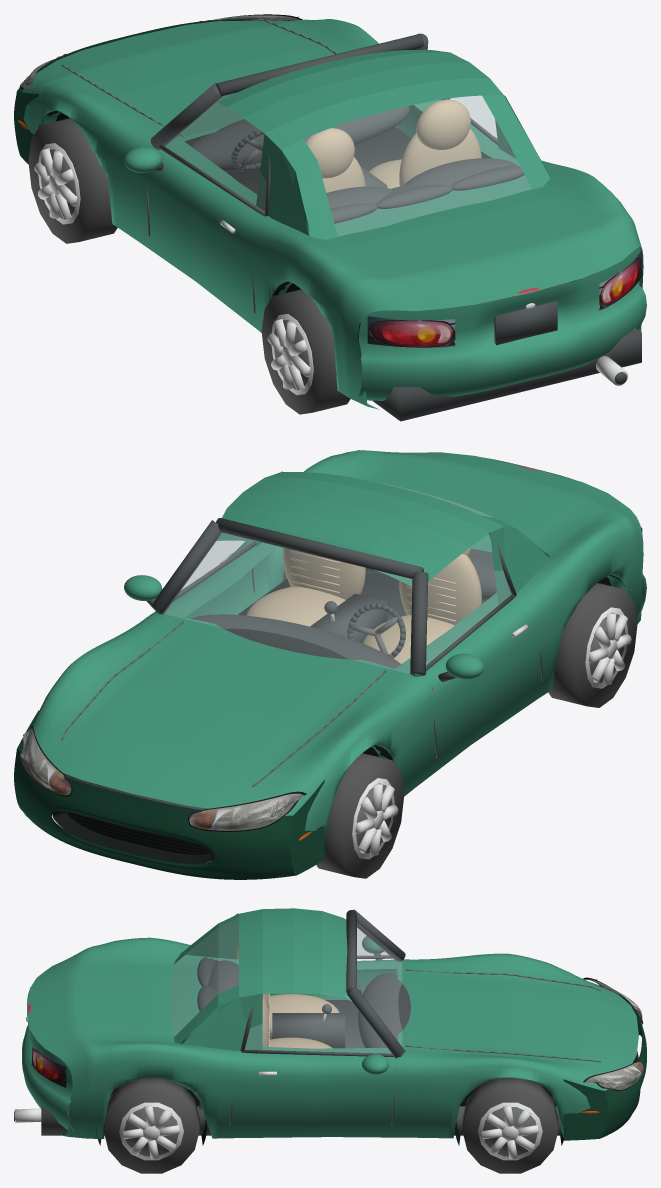
Rendered from miata.glb.
3 renders of one model, top to bottom at view 1: azimuth 30°, elevation 25°; view 2: azimuth 150°, elevation 25°; view 3: azimuth 270°, elevation 25°, orthographic. The views are drawn at different scales.
Parts seen in each view (by area): view 1: body_British racing green, body_glass, body_trim, body_leather, front_l_rubber, rear_l_rubber, rear_light_-1, front_l_alloy, rear_l_alloy, rear_light_1, body_dark, Bumper return -1 (+2 smaller); view 2: body_British racing green, body_glass, body_trim, body_leather, Upper bumper, rear_l_rubber, front_l_rubber, Lower bumper, Headlamp -1, front_l_alloy, rear_l_alloy, Radiator core (+4 smaller); view 3: body_British racing green, body_glass, body_trim, front_r_rubber, rear_r_rubber, rear_r_alloy, front_r_alloy, body_leather, Bumper return 1, Upper bumper, body_dark, Headlamp 1 (+5 smaller).
Part boxes in pixels (bbox=[...]): body_British racing green: bbox=[22, 19, 646, 409]; body_glass: bbox=[163, 48, 531, 236]; body_trim: bbox=[150, 33, 641, 421]; body_leather: bbox=[305, 99, 481, 192]; front_l_rubber: bbox=[28, 118, 117, 243]; rear_l_rubber: bbox=[261, 289, 350, 414]; rear_light_-1: bbox=[367, 316, 455, 347]; front_l_alloy: bbox=[34, 143, 80, 224]; rear_l_alloy: bbox=[267, 314, 313, 395]; rear_light_1: bbox=[599, 249, 642, 311]; body_dark: bbox=[61, 18, 336, 313]; Bumper return -1: bbox=[14, 91, 38, 164]; body_British racing green: bbox=[22, 450, 646, 877]; body_glass: bbox=[163, 480, 511, 673]; body_trim: bbox=[64, 518, 516, 810]; body_leather: bbox=[246, 547, 481, 663]; Upper bumper: bbox=[14, 749, 292, 857]; rear_l_rubber: bbox=[548, 582, 637, 707]; front_l_rubber: bbox=[316, 753, 404, 878]; Lower bumper: bbox=[15, 789, 295, 879]; Headlamp -1: bbox=[189, 793, 304, 830]; front_l_alloy: bbox=[352, 778, 398, 859]; rear_l_alloy: bbox=[585, 607, 631, 688]; Radiator core: bbox=[67, 812, 212, 854]; body_British racing green: bbox=[22, 908, 638, 1138]; body_glass: bbox=[170, 918, 401, 1053]; body_trim: bbox=[14, 909, 561, 1135]; front_r_rubber: bbox=[462, 1077, 558, 1173]; rear_r_rubber: bbox=[103, 1078, 199, 1173]; rear_r_alloy: bbox=[119, 1102, 183, 1160]; front_r_alloy: bbox=[478, 1102, 542, 1160]; body_leather: bbox=[236, 940, 339, 1048]; Bumper return 1: bbox=[563, 1079, 609, 1140]; Upper bumper: bbox=[605, 990, 646, 1120]; body_dark: bbox=[229, 968, 600, 1125]; Headlamp 1: bbox=[585, 1061, 643, 1089].
Size of the model in its own units: 1.99 by 1.21 by 3.99.
15 materials, 2 textured.
